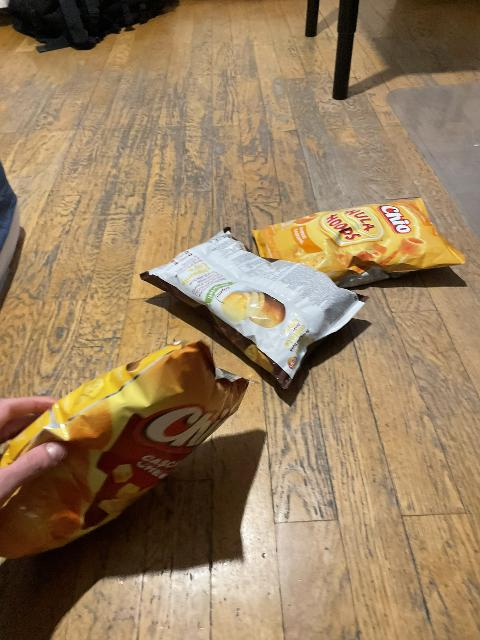Chio Cascaval 125g: (2, 340, 252, 552)
Chio Hula Hoops Cheese 70g: (254, 199, 465, 283)
Lays Beef Grilled Ribs 125g: (139, 231, 357, 379)
